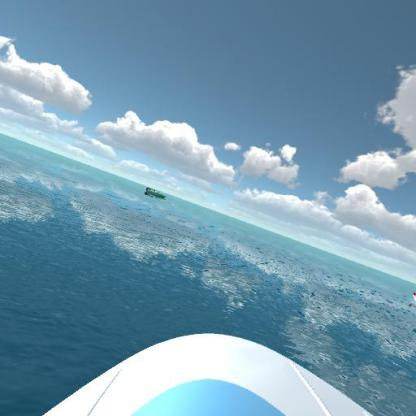usv0: (141, 181, 173, 204)
usv3: (409, 284, 415, 312)
